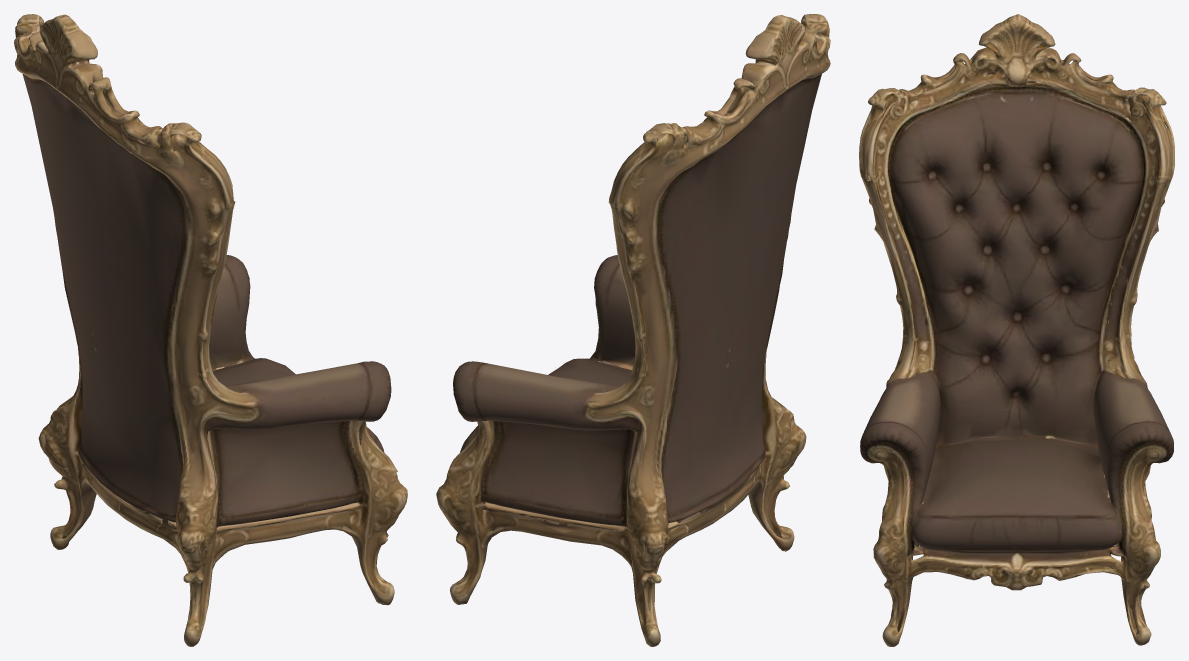
File: chair.glb
3 views of the same model, side by side, from view 1: azimuth 30°, elevation 25°; view 2: azimuth 150°, elevation 25°; view 3: azimuth 270°, elevation 25° (orthographic). The views are drawn at different scales.
Parts seen in each view (by area): view 1: tripo_node_bf888599; view 2: tripo_node_bf888599; view 3: tripo_node_bf888599.
Boxes of the visible parts, x1,y1,x2,y2 form: tripo_node_bf888599: [14, 14, 407, 646]; tripo_node_bf888599: [436, 14, 830, 646]; tripo_node_bf888599: [859, 14, 1174, 646].
Size of the model in its own units: 0.4888 by 0.9916 by 0.5417.
Materials: 1 (1 with a texture image).
